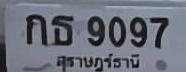0: (108, 15, 126, 47)
7: (149, 16, 168, 48)
9: (129, 16, 148, 47), (87, 15, 105, 46)
A01: (25, 12, 47, 46)
A24: (51, 14, 74, 45)
SNI: (54, 51, 143, 72)
